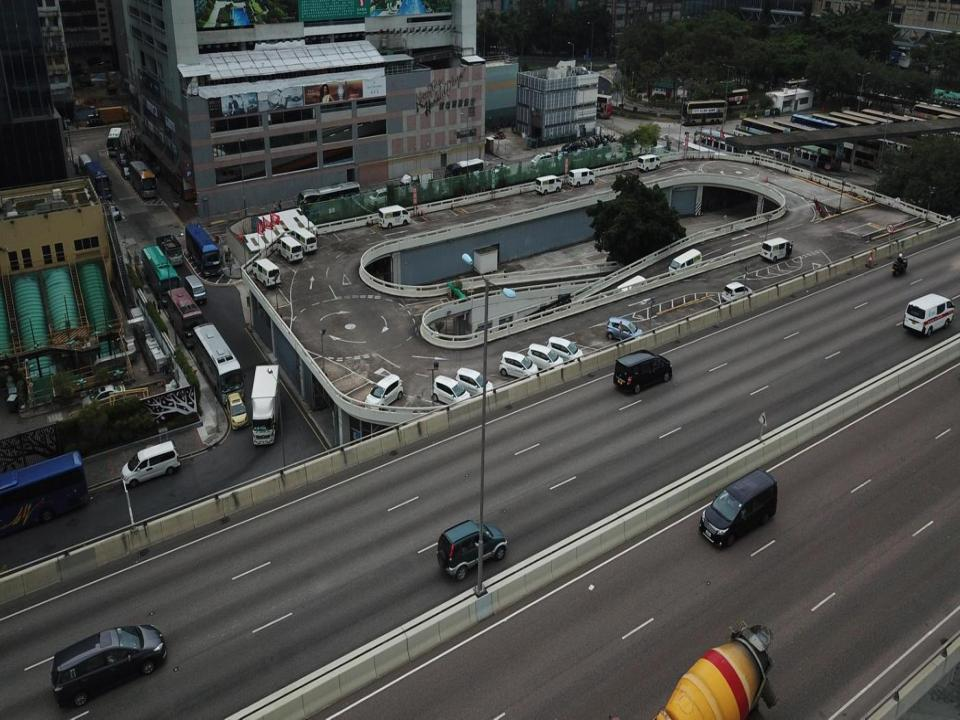bus: (0, 450, 91, 539), (191, 320, 245, 406), (294, 181, 362, 220), (167, 285, 205, 347), (141, 243, 176, 304), (737, 116, 790, 155), (185, 224, 220, 275), (792, 110, 837, 142), (680, 96, 728, 125), (82, 160, 111, 205), (444, 157, 484, 189), (128, 159, 159, 200), (577, 92, 612, 120), (105, 125, 124, 156)
car: (436, 520, 508, 578), (452, 366, 495, 404), (364, 373, 404, 412), (432, 373, 470, 409), (498, 351, 539, 384), (526, 342, 564, 374), (604, 314, 643, 342), (546, 336, 584, 364), (226, 391, 248, 431), (721, 281, 752, 306), (530, 152, 552, 169), (491, 164, 509, 178), (107, 203, 120, 221)
truck: (638, 620, 782, 719), (250, 364, 281, 446), (400, 167, 434, 197), (155, 234, 183, 269)
van: (46, 623, 166, 710), (698, 467, 780, 548), (121, 439, 181, 490), (900, 290, 956, 336), (614, 351, 674, 391), (609, 272, 649, 308), (668, 248, 703, 279), (252, 256, 280, 288), (184, 272, 207, 309), (377, 204, 412, 228), (760, 238, 793, 262), (276, 237, 305, 264), (288, 228, 316, 254), (534, 173, 562, 195), (567, 166, 596, 187), (635, 151, 662, 172), (369, 186, 391, 206)
